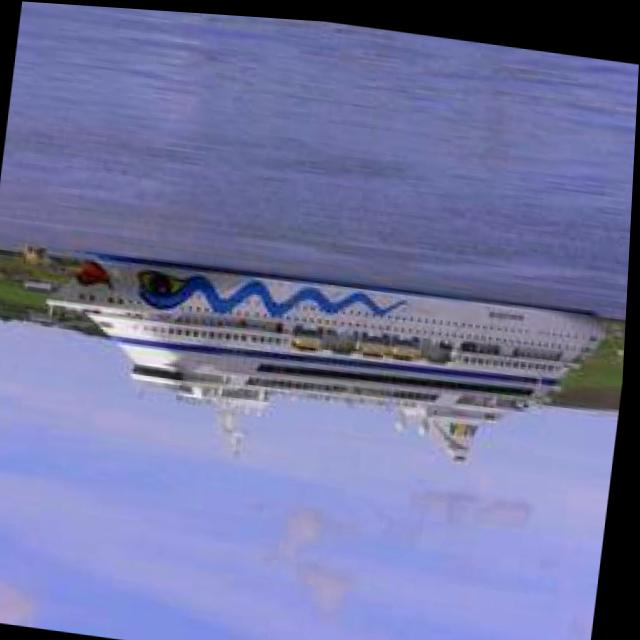ship2: (47, 256, 607, 452)
